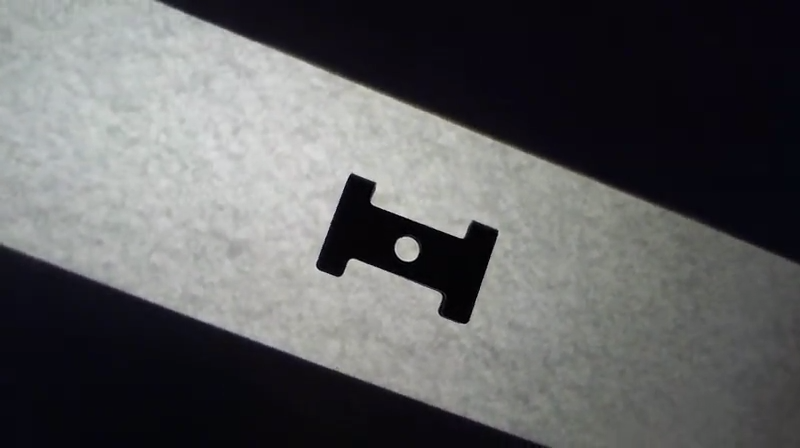O002: (312, 171, 499, 326)
